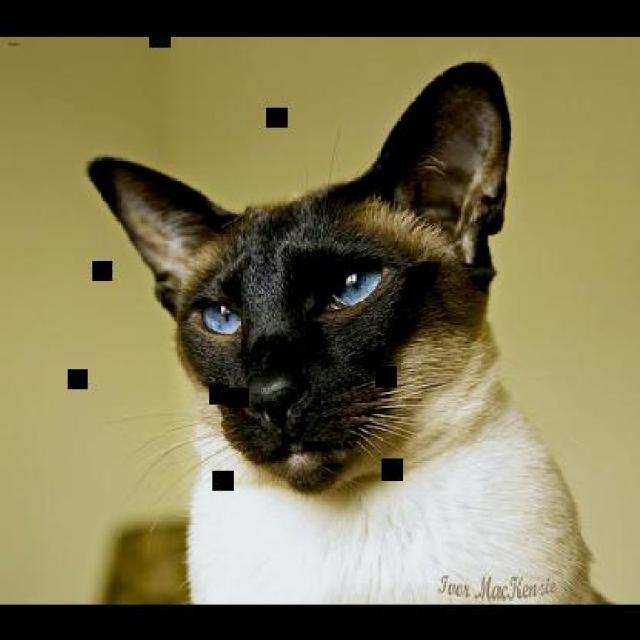unauthorized: (86, 58, 612, 604)
